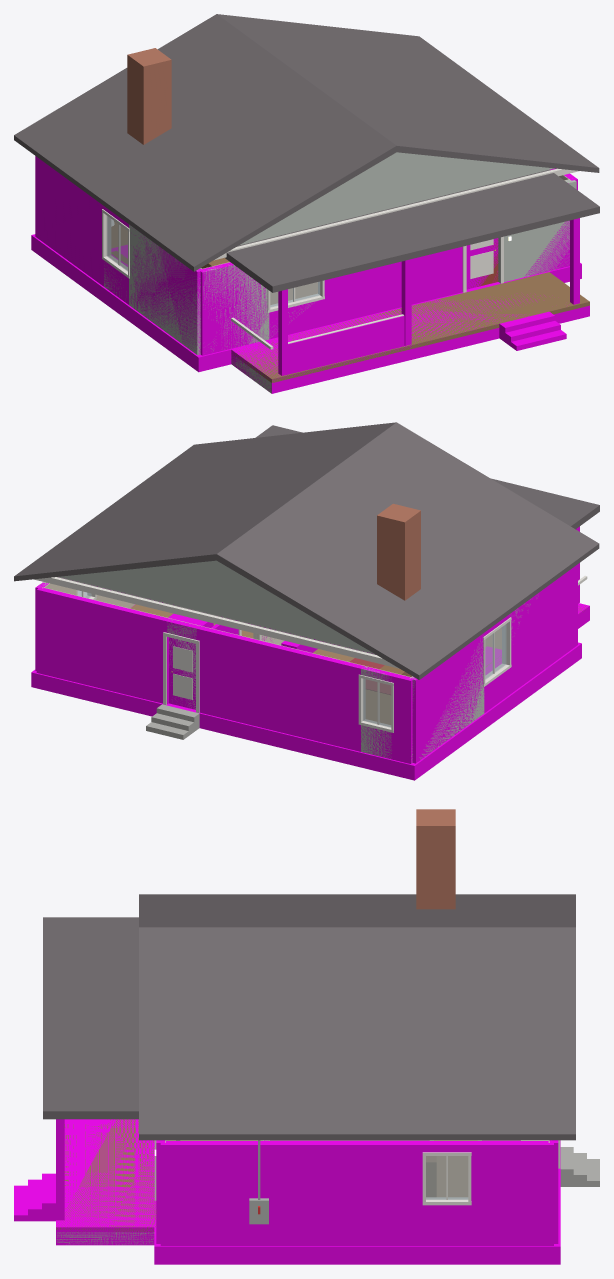
The model's file is house_b.glb.
3 views of the same model, one above another, from view 1: azimuth 30°, elevation 25°; view 2: azimuth 150°, elevation 25°; view 3: azimuth 270°, elevation 25° (orthographic). The views are drawn at different scales.
Parts seen in each view (by area): view 1: Roof, Porch_Roof, Porch_Deck, Gables, COL_Porch, Wall_Front, COL_Wall_Front_3, COL_Wall_Left_0, Wall_Left, COL_Wall_Front_0, COL_Wall_Left_3, COL_Foundation (+20 smaller); view 2: Roof, COL_Wall_Back_3, COL_Wall_Back_5, Gables, COL_Foundation, COL_Wall_Left_0, COL_Wall_Left_3, Chimney, Eaves_Trim, Wall_Left, Porch_Roof, COL_Wall_Back_0 (+11 smaller); view 3: Roof, COL_Wall_Right_3, Porch_Roof, COL_Porch, COL_Wall_Right_0, COL_Foundation, Porch_Deck, Chimney, Pane_Wall_Right_0, COL_Wall_Right_2, Floor_Wood, Wall_Right_Trim (+4 smaller).
Part boxes in pixels (left/top/right/bottom): Roof: left=14, top=14, right=599, bottom=271; Porch_Roof: left=225, top=169, right=599, bottom=292; Porch_Deck: left=231, top=272, right=589, bottom=382; Gables: left=239, top=152, right=554, bottom=245; COL_Porch: left=231, top=294, right=589, bottom=393; Wall_Front: left=203, top=179, right=576, bottom=350; COL_Wall_Front_3: left=322, top=246, right=462, bottom=326; COL_Wall_Left_0: left=35, top=156, right=103, bottom=286; Wall_Left: left=104, top=224, right=200, bottom=355; COL_Wall_Front_0: left=199, top=262, right=268, bottom=355; COL_Wall_Left_3: left=130, top=235, right=203, bottom=354; COL_Foundation: left=31, top=234, right=581, bottom=372; Roof: left=14, top=422, right=599, bottom=679; COL_Wall_Back_3: left=196, top=626, right=364, bottom=751; COL_Wall_Back_5: left=36, top=588, right=170, bottom=704; Gables: left=59, top=560, right=373, bottom=653; COL_Foundation: left=31, top=605, right=581, bottom=780; COL_Wall_Left_0: left=412, top=633, right=484, bottom=763; COL_Wall_Left_3: left=509, top=564, right=577, bottom=694; Chimney: left=377, top=503, right=420, bottom=600; Eaves_Trim: left=34, top=577, right=399, bottom=668; Wall_Left: left=410, top=596, right=538, bottom=762; Porch_Roof: left=255, top=425, right=599, bottom=529; COL_Wall_Back_0: left=392, top=674, right=413, bottom=763; Roof: left=139, top=894, right=575, bottom=1140; COL_Wall_Right_3: left=160, top=1141, right=425, bottom=1245; Porch_Roof: left=43, top=917, right=138, bottom=1119; COL_Porch: left=56, top=1119, right=156, bottom=1245; COL_Wall_Right_0: left=469, top=1141, right=553, bottom=1245; COL_Foundation: left=154, top=1140, right=560, bottom=1264; Porch_Deck: left=56, top=1119, right=156, bottom=1231; Chimney: left=416, top=809, right=455, bottom=909; Pane_Wall_Right_0: left=426, top=1156, right=468, bottom=1199; COL_Wall_Right_2: left=425, top=1205, right=468, bottom=1245; Floor_Wood: left=167, top=1140, right=477, bottom=1196; Wall_Right_Trim: left=422, top=1152, right=471, bottom=1205.
Bounding box in the file's own units: 13 × 6.55 × 13.41.
